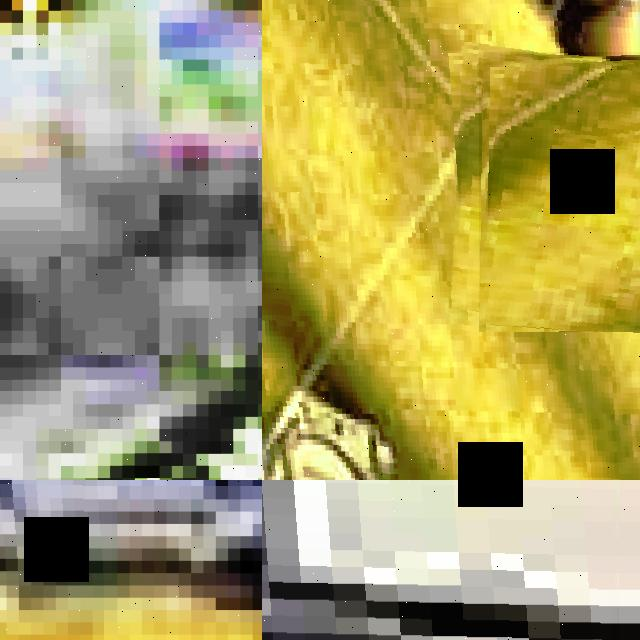arms: (262, 0, 640, 480), (262, 480, 640, 640), (479, 52, 640, 332), (0, 480, 112, 580)
